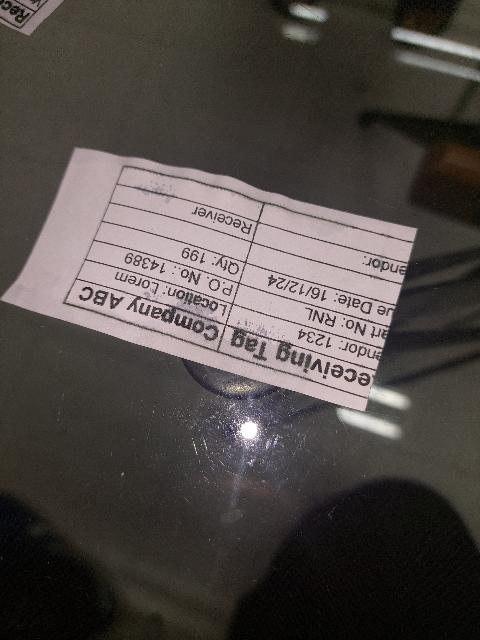PO no: (84, 240, 239, 305)
part no: (231, 284, 390, 349)
qty: (94, 221, 247, 285)
tags: (1, 147, 417, 415)
